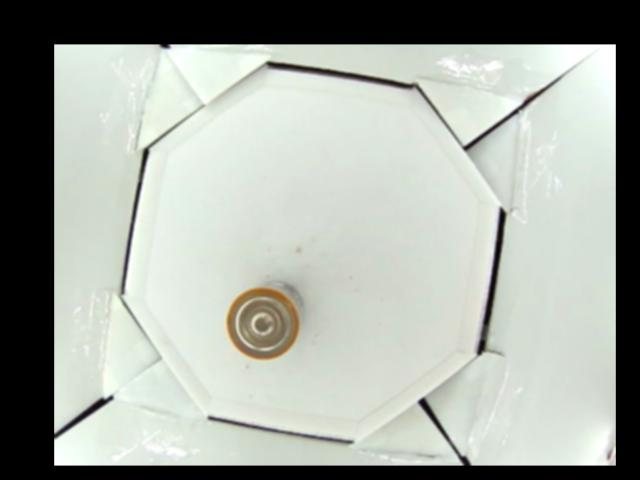Battery: (227, 283, 304, 355)
